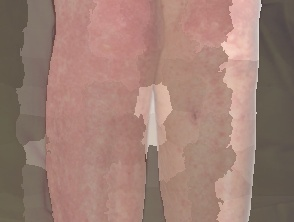SJS-TEN: (39, 0, 265, 222)
